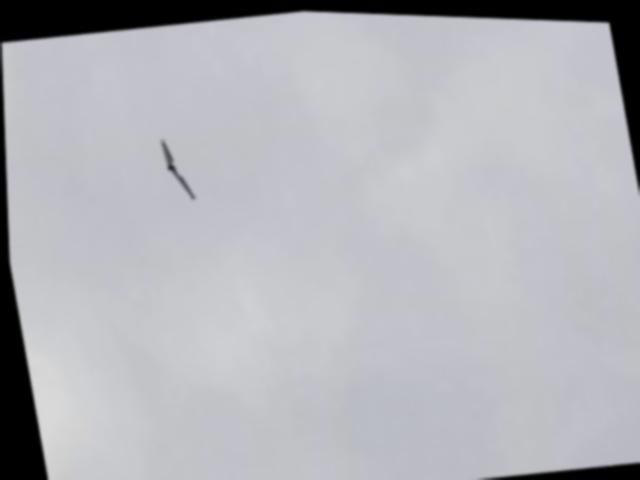flying wing: (155, 136, 196, 207)
